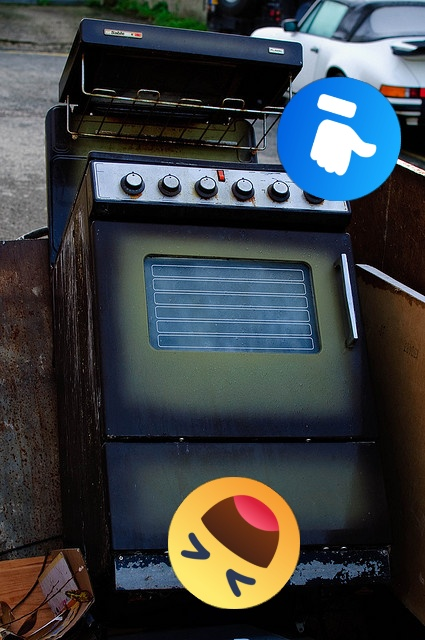haha: (168, 477, 300, 609)
like: (277, 77, 401, 201)
